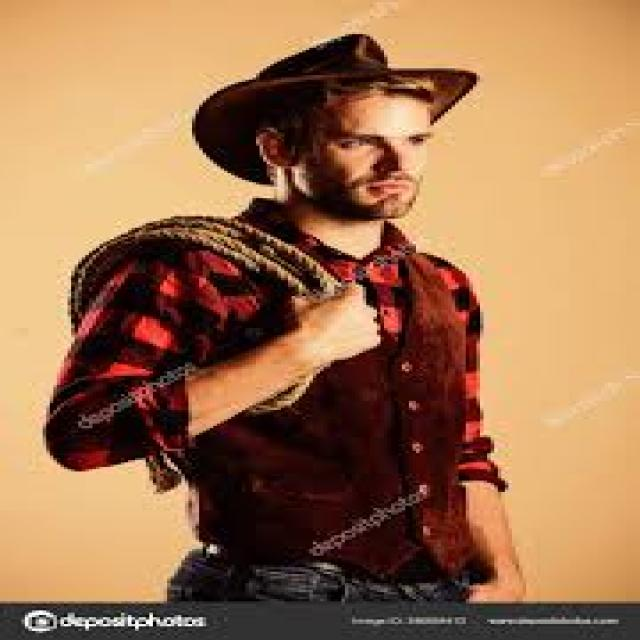hat: (192, 34, 484, 221)
